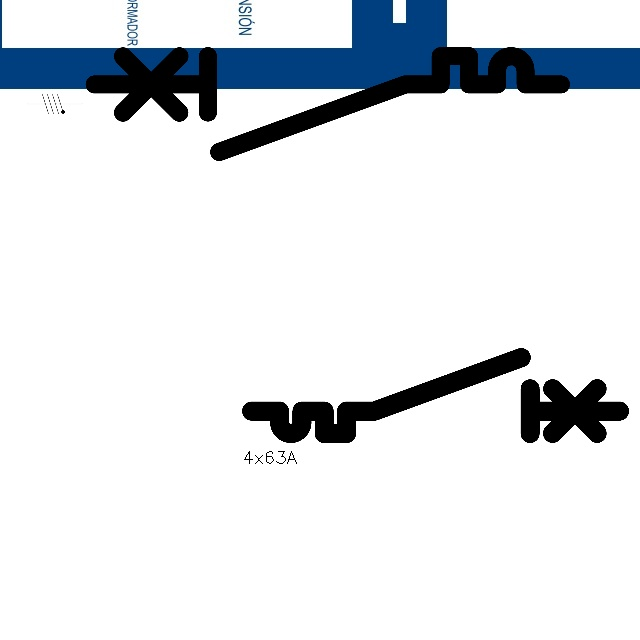interruptor_termomagnetico: (82, 44, 572, 164), (242, 348, 629, 443)
